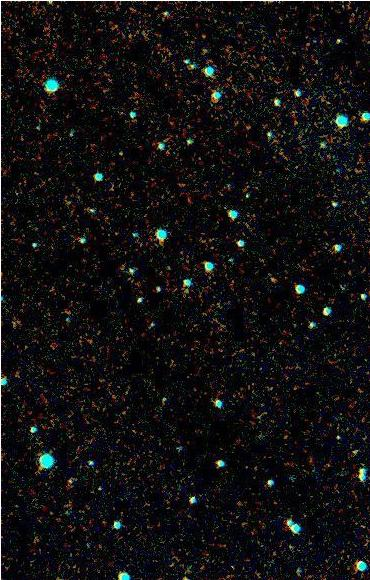star: (256, 262, 286, 292)
